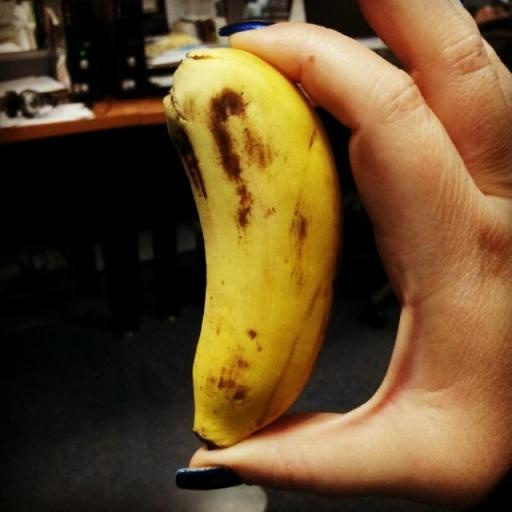fruit: (164, 48, 340, 446)
